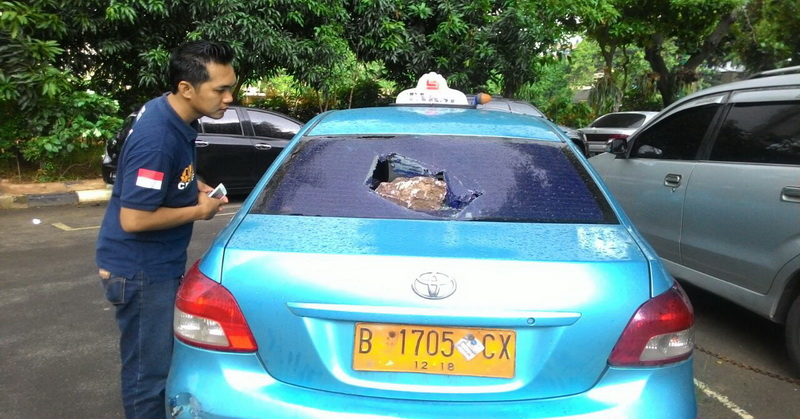plate: (351, 320, 517, 377)
